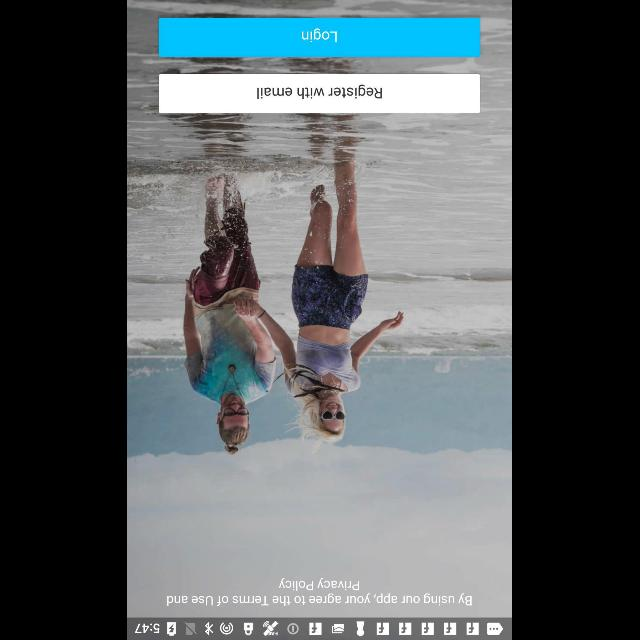backgroundimage: (128, 0, 512, 618)
text: (168, 577, 472, 607)
textbutton: (160, 74, 480, 114), (160, 18, 480, 56)
uppertaskbar: (128, 617, 512, 639)
